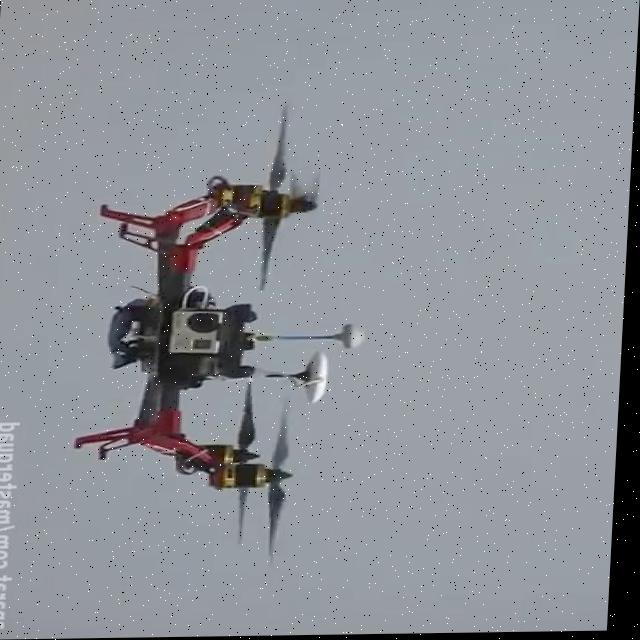drone: (68, 96, 382, 578)
